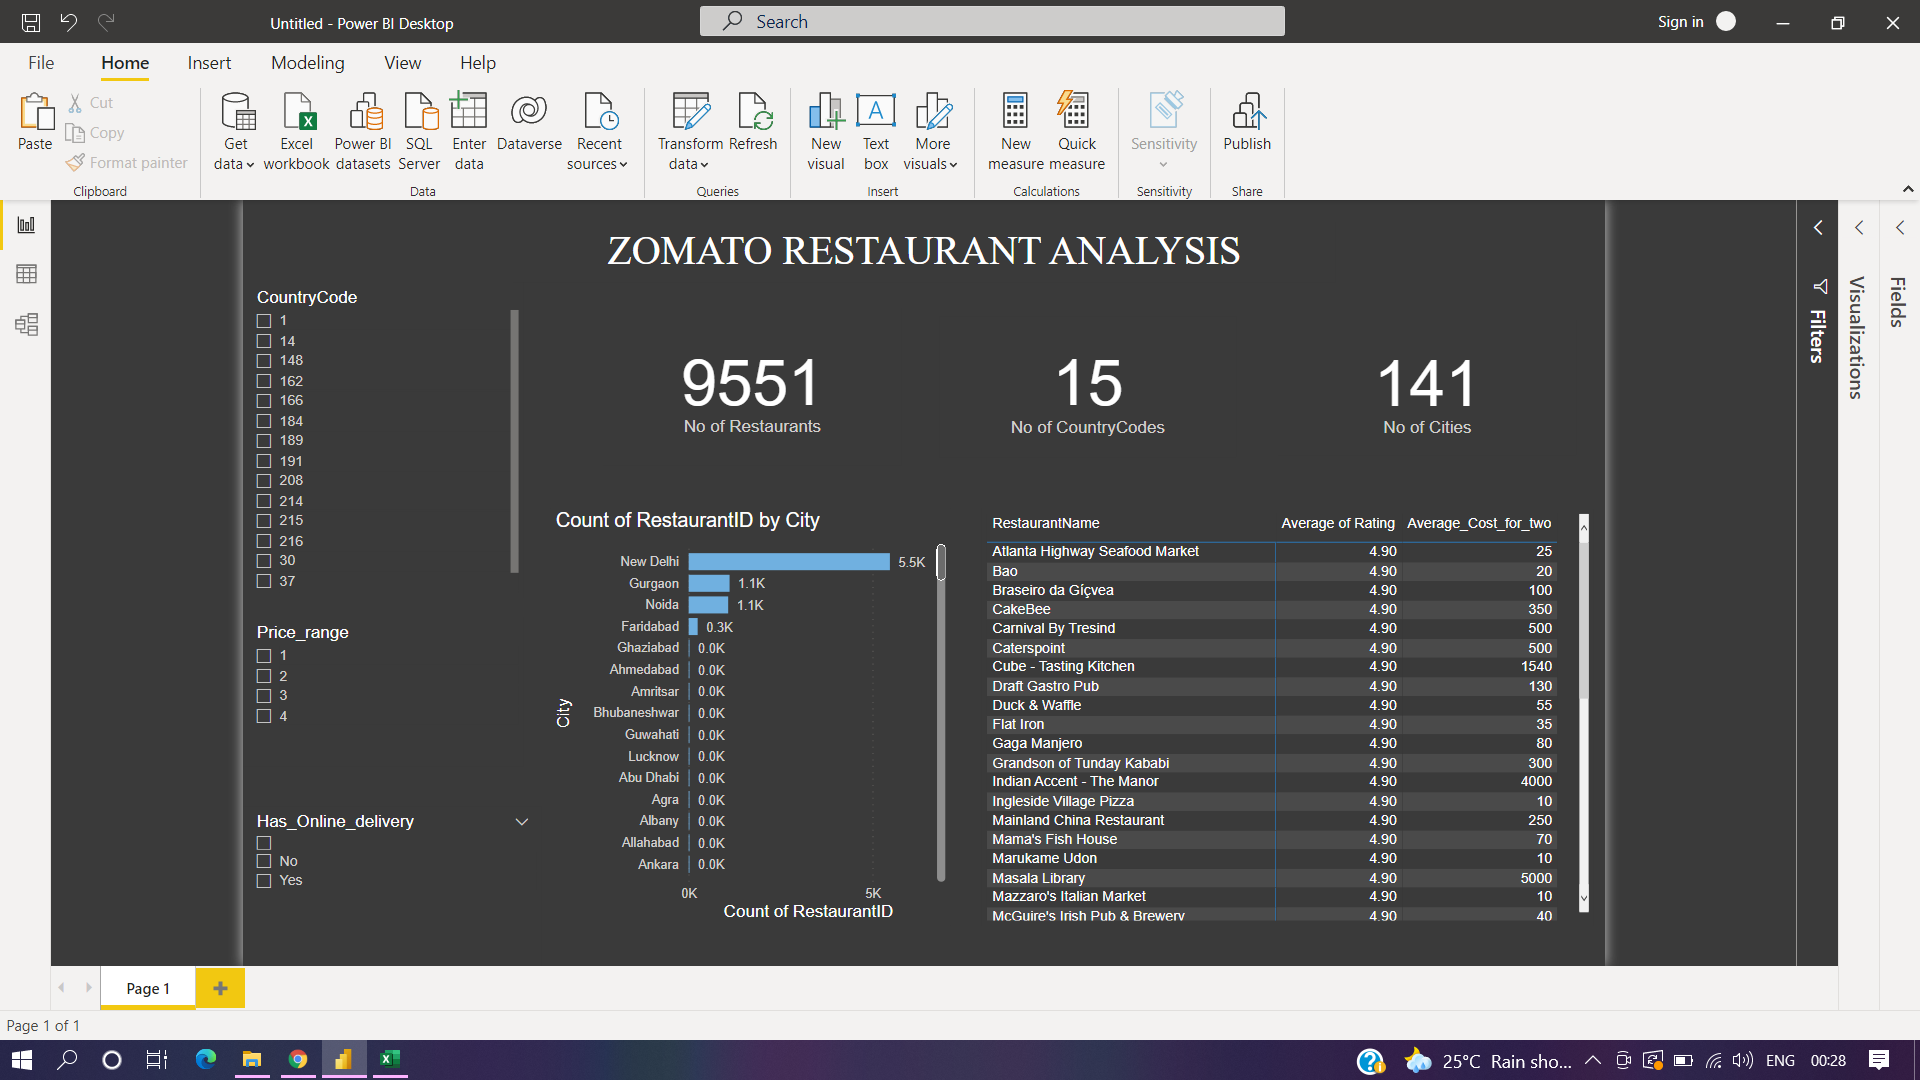

The dashboard page shown, as its layout file describes it:
{"tool":"powerbi","page":{"name":"Page 1","canvas":[1280,720],"ordinal":0},"visuals":[{"type":"card","fields":{"Values":["CountNonNull(ZomatoData.RestaurantID)"]},"box":[338.3,102.2,280.7,146.8],"z":0},{"type":"card","fields":{"Values":["Count(ZomatoData.CountryCode)"]},"box":[654.2,109.2,279.5,132.7],"z":1000},{"type":"card","fields":{"Values":["Count(ZomatoData.City)"]},"box":[972.5,112.8,280.7,126.9],"z":2000},{"type":"slicer","fields":{"Values":["ZomatoData.CountryCode"]},"box":[0,77.5,264.3,296],"z":3000},{"type":"slicer","fields":{"Values":["ZomatoData.Price_range"]},"box":[0,392.3,264.3,139.8],"z":4000},{"type":"slicer","fields":{"Values":["ZomatoData.Has_Online_delivery"]},"box":[0,569.7,280.7,150.3],"z":5000},{"type":"clusteredBarChart","fields":{"Y":["CountNonNull(ZomatoData.RestaurantID)"],"Category":["ZomatoData.City"]},"box":[288.9,290.1,375.9,392.3],"z":6000},{"type":"pivotTable","fields":{"Rows":["ZomatoData.RestaurantName"],"Values":["Avg(ZomatoData.Rating)","Sum(ZomatoData.Average_Cost_for_two)"]},"box":[694.2,290.1,575.5,392.3],"z":7000},{"type":"textbox","box":[253.6,21.1,772.9,56.4],"z":8000}]}

Visuals, with their boxes on the page's 1280x720 design canvas (x1, y1, x2, y2). These are canvas units, not pixel positions in the 1920x1080 screenshot, which may show the page scaled, cropped or inside an application window:
card - CountNonNull(ZomatoData.RestaurantID): crop(338, 102, 619, 249)
card - Count(ZomatoData.CountryCode): crop(654, 109, 934, 242)
card - Count(ZomatoData.City): crop(972, 113, 1253, 240)
slicer - ZomatoData.CountryCode: crop(0, 78, 264, 374)
slicer - ZomatoData.Price_range: crop(0, 392, 264, 532)
slicer - ZomatoData.Has_Online_delivery: crop(0, 570, 281, 720)
clusteredBarChart - CountNonNull(ZomatoData.RestaurantID) x ZomatoData.City: crop(289, 290, 665, 682)
pivotTable - ZomatoData.RestaurantName x Avg(ZomatoData.Rating): crop(694, 290, 1270, 682)
textbox: crop(254, 21, 1026, 78)
